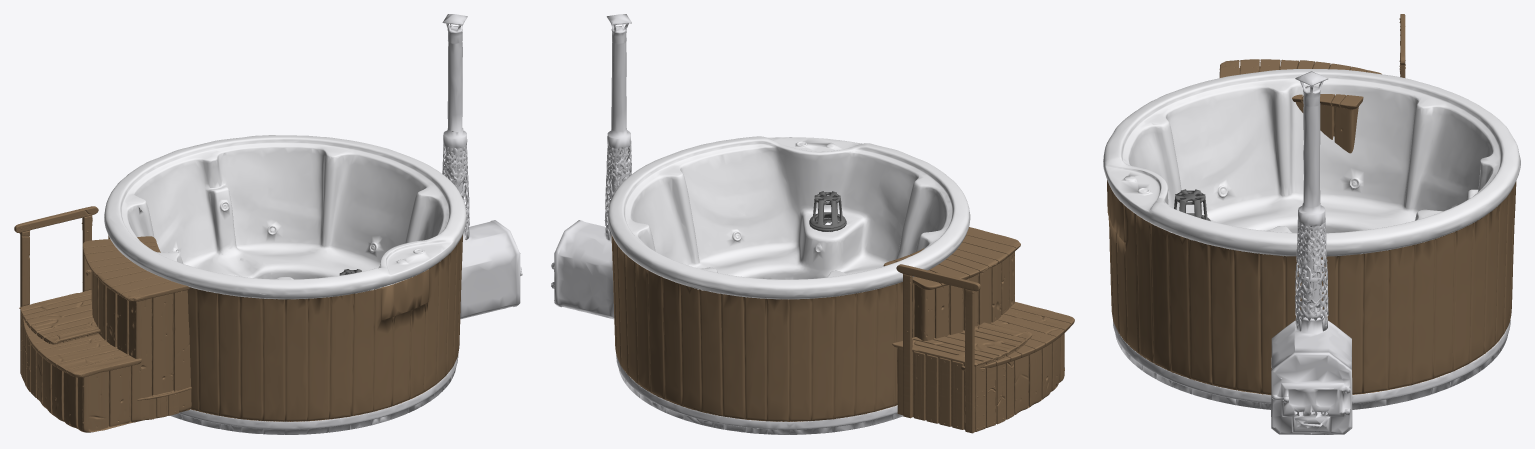
The model's file is balia_z_piecem_1_compressed.glb.
3 renders of one model, left to right at view 1: azimuth 30°, elevation 25°; view 2: azimuth 150°, elevation 25°; view 3: azimuth 270°, elevation 25°, orthographic. The views are drawn at different scales.
Parts seen in each view (by area): view 1: niecka, elewacja, schodki_proste, piec, schodki_boczne, obejma dolna; view 2: niecka, elewacja, schodki_proste, schodki_boczne, piec, obejma dolna, filtr; view 3: niecka, elewacja, piec, obejma dolna, schodki_proste, filtr.
Part boxes in pixels (x1=…): niecka: x1=104, y1=135, x2=466, y2=299; elewacja: x1=108, y1=235, x2=462, y2=421; schodki_proste: x1=22, y1=236, x2=191, y2=432; piec: x1=442, y1=14, x2=522, y2=319; schodki_boczne: x1=14, y1=206, x2=191, y2=419; obejma dolna: x1=170, y1=355, x2=458, y2=434; niecka: x1=607, y1=136, x2=970, y2=299; elewacja: x1=611, y1=235, x2=902, y2=421; schodki_proste: x1=883, y1=227, x2=1074, y2=413; schodki_boczne: x1=892, y1=264, x2=1032, y2=433; piec: x1=551, y1=14, x2=631, y2=319; obejma dolna: x1=616, y1=356, x2=903, y2=434; filtr: x1=809, y1=191, x2=846, y2=231; niecka: x1=1103, y1=69, x2=1520, y2=256; elewacja: x1=1107, y1=180, x2=1516, y2=395; piec: x1=1271, y1=71, x2=1352, y2=434; obejma dolna: x1=1113, y1=320, x2=1510, y2=409; schodki_proste: x1=1219, y1=59, x2=1381, y2=153; filtr: x1=1174, y1=189, x2=1210, y2=220.
Size of the model in its own units: 1.52 by 0.9288 by 1.
